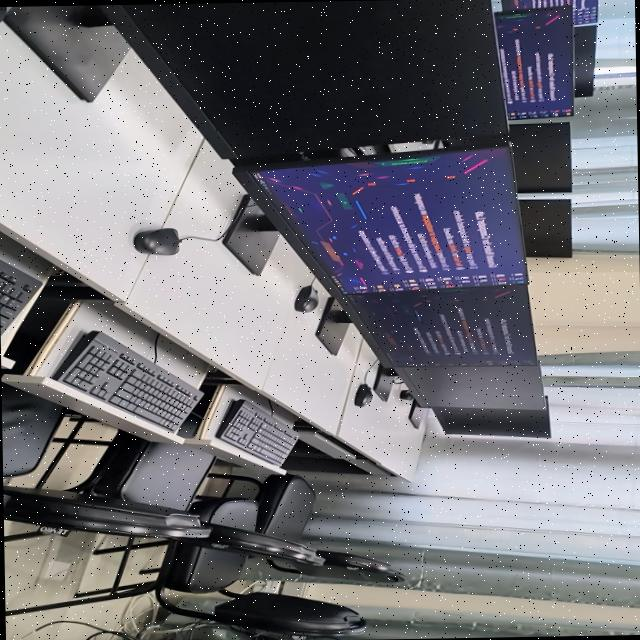Chair: (37, 415, 325, 564), (41, 540, 366, 635), (3, 484, 210, 536), (214, 473, 315, 546), (1, 382, 64, 477), (267, 549, 403, 582)
Keyboard: (47, 330, 202, 432), (216, 399, 297, 464), (0, 258, 43, 336)
Monitor: (101, 0, 507, 158), (252, 144, 527, 293), (346, 284, 536, 365), (495, 3, 573, 119), (393, 364, 545, 412), (432, 395, 550, 436), (508, 121, 571, 192), (519, 198, 573, 256), (501, 0, 597, 24), (574, 24, 595, 95)
Mouse: (134, 227, 182, 254), (294, 284, 318, 311), (355, 383, 373, 405)
